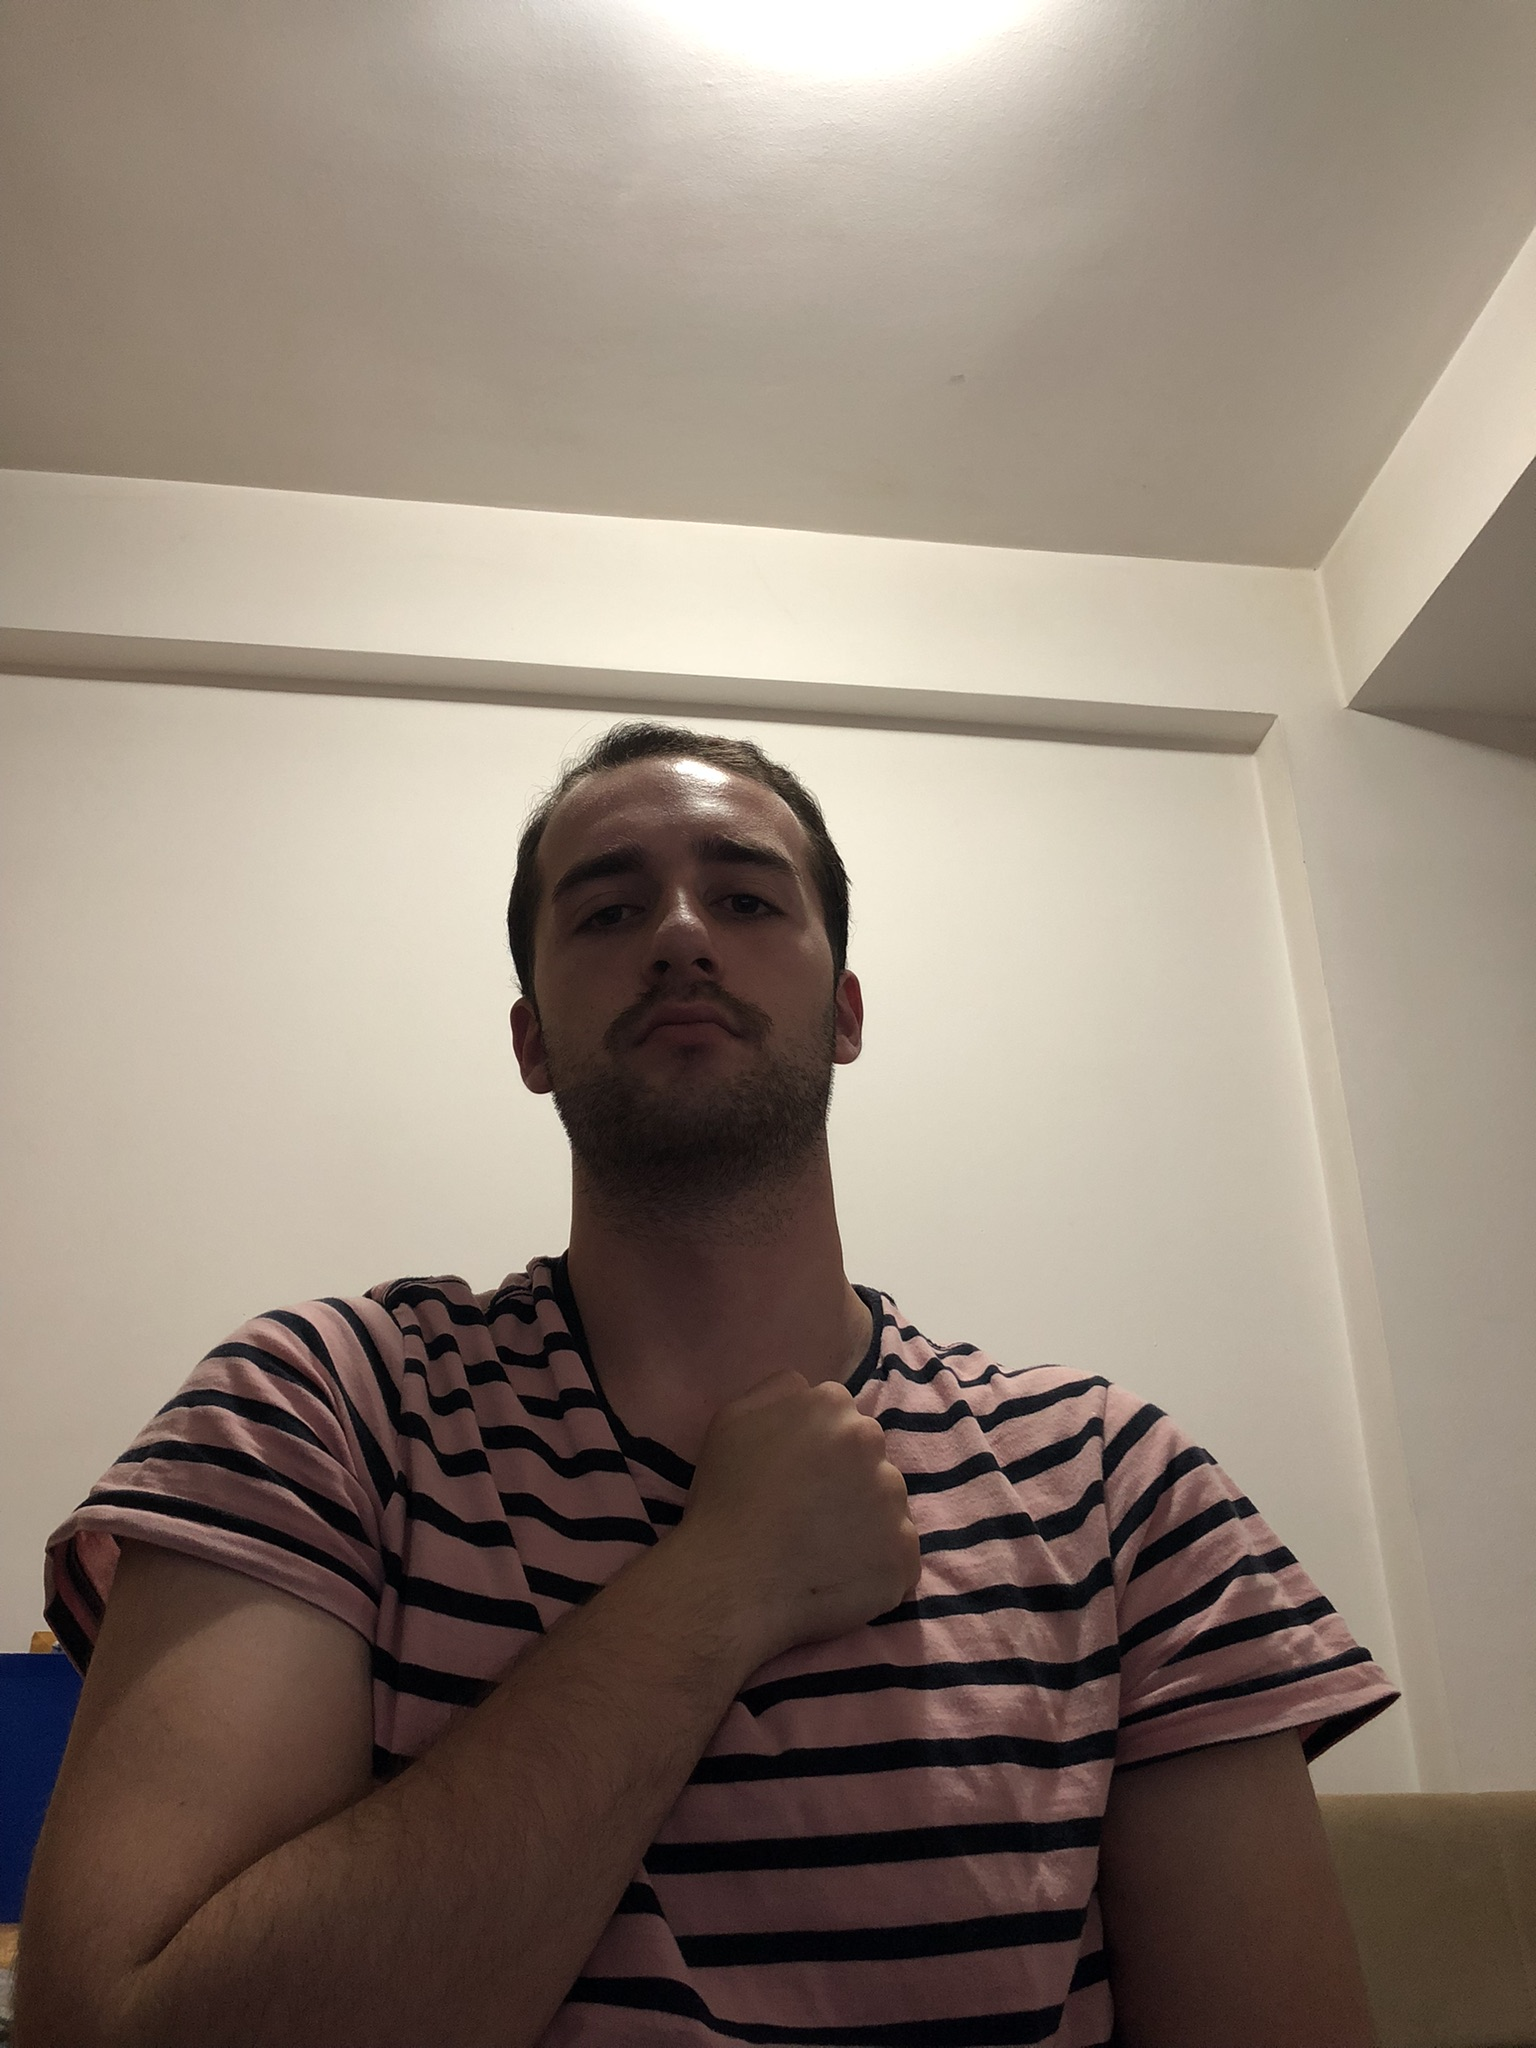Sorry: (13, 1369, 928, 2048)
